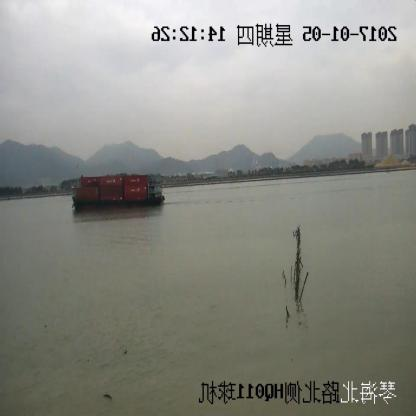Container Ship: (72, 174, 164, 210)
